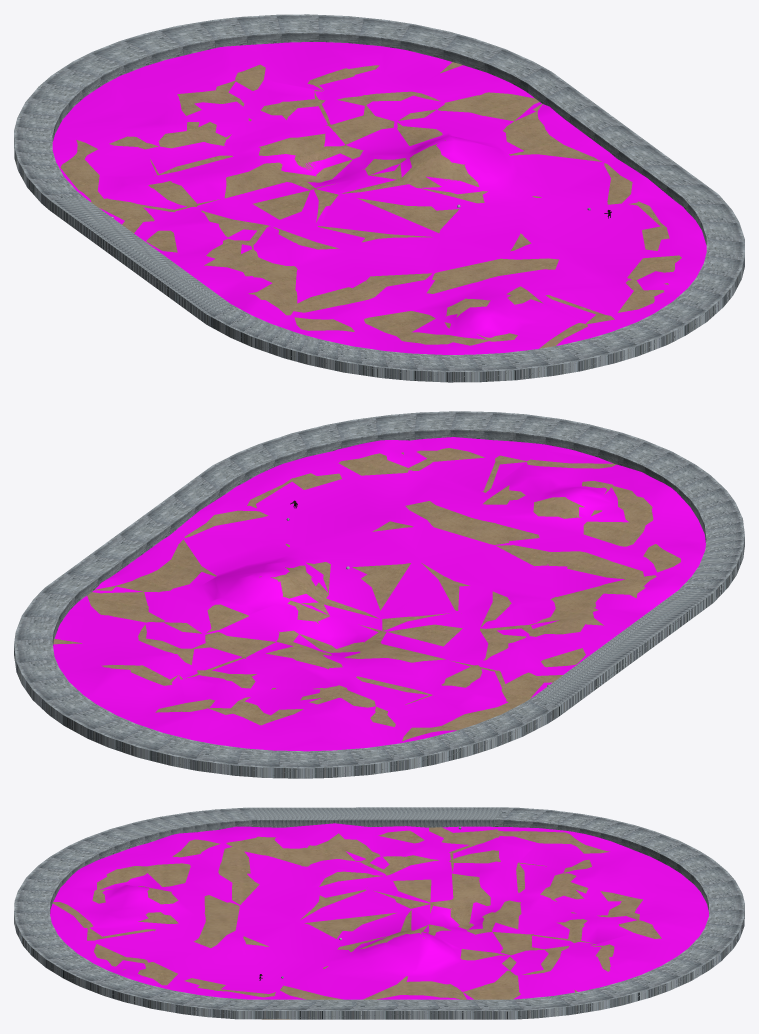
Rendered from stadium,primitive-simpler.obj.
3 views of the same model, one above another, from view 1: azimuth 30°, elevation 25°; view 2: azimuth 150°, elevation 25°; view 3: azimuth 270°, elevation 25° (orthographic). The views are drawn at different scales.
Parts seen in each view (by area): view 1: Walkmesh_Plane.001, Stands_Plane.003, Ground_Plane; view 2: Walkmesh_Plane.001, Stands_Plane.003, Ground_Plane; view 3: Walkmesh_Plane.001, Stands_Plane.003, Ground_Plane.
Part boxes in pixels (x1,y1,x2,y2): Walkmesh_Plane.001: (52,42,706,354); Stands_Plane.003: (14,14,744,382); Ground_Plane: (60,62,681,348); Walkmesh_Plane.001: (53,437,705,751); Stands_Plane.003: (14,411,744,778); Ground_Plane: (53,448,680,741); Walkmesh_Plane.001: (50,823,708,999); Stands_Plane.003: (14,807,744,1019); Ground_Plane: (53,827,661,1019).
Size of the model in its own units: 68.92 by 4.59 by 104.
5 materials, 4 textured.
